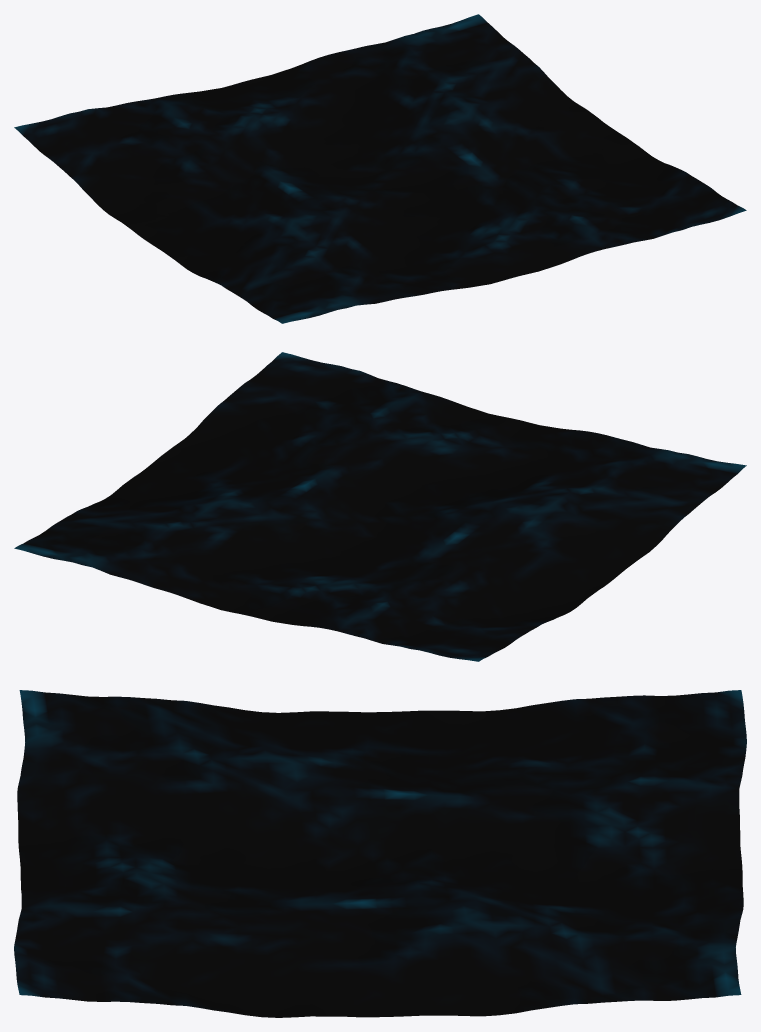
File: Sea(4).glb
The picture shows the model from 3 angles, top to bottom: view 1: azimuth 30°, elevation 25°; view 2: azimuth 150°, elevation 25°; view 3: azimuth 270°, elevation 25°; orthographic projection. The views are drawn at different scales.
Visible parts, largest first — view 1: Sea; view 2: Sea; view 3: Sea.
Boxes of the visible parts, x1,y1,x2,y2 form: Sea: (14, 14, 746, 323); Sea: (14, 352, 746, 661); Sea: (14, 690, 746, 1017).
Bounding box in the file's own units: 50.39 × 1.8 × 50.77.
